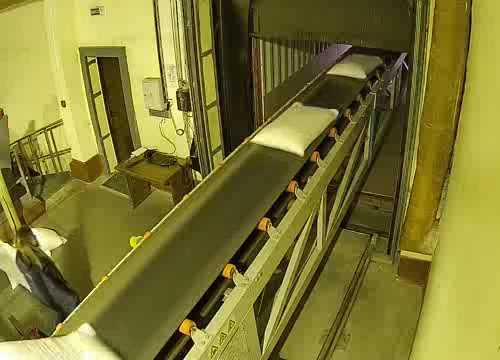bag: (235, 97, 347, 160), (0, 320, 124, 360), (322, 48, 388, 84)
